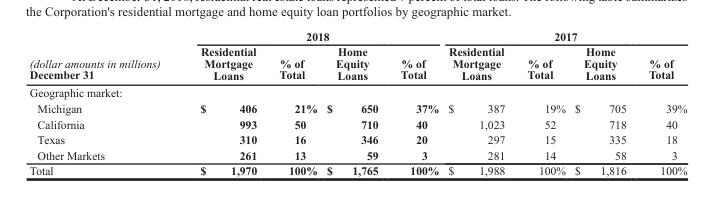table: (28, 29, 686, 176)
table column: (28, 29, 179, 176), (179, 29, 267, 176), (442, 29, 515, 176), (321, 29, 388, 176), (569, 29, 636, 176), (267, 29, 321, 176), (388, 29, 442, 176), (515, 29, 569, 176), (636, 29, 686, 176)
table column header: (28, 29, 686, 83)
table projected row header: (28, 83, 686, 99)
table row: (28, 43, 686, 83), (28, 99, 686, 116), (28, 83, 686, 99), (28, 131, 686, 147), (28, 116, 686, 131), (28, 147, 686, 162), (28, 29, 686, 43), (28, 162, 686, 176)
table spanning cell: (28, 29, 179, 83), (179, 29, 442, 43), (442, 29, 686, 43)
